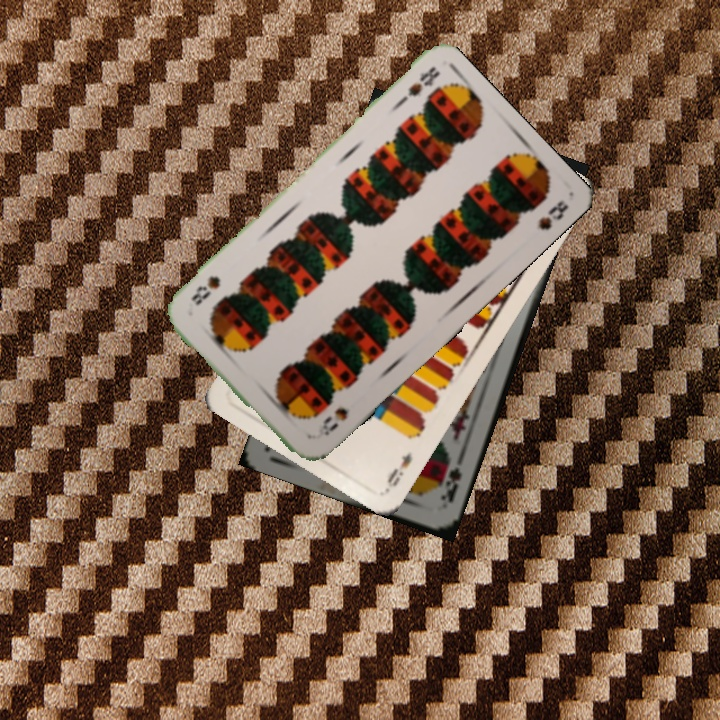E9: (382, 448, 415, 493)
S8: (393, 62, 443, 109), (311, 403, 351, 443)
SK: (436, 453, 464, 506)
